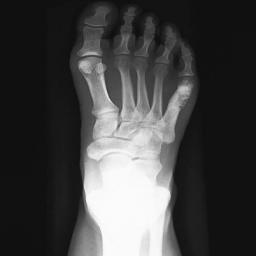cancer: (165, 83, 192, 120)
